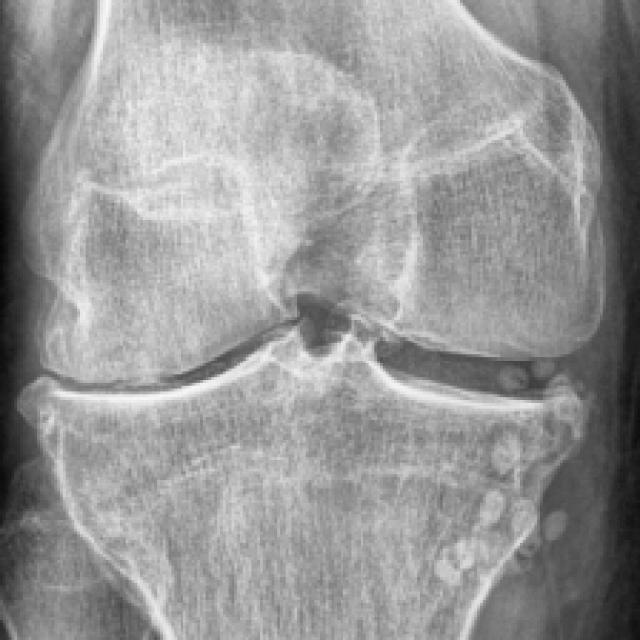femur: (21, 0, 605, 385)
tibia: (14, 329, 588, 640)
